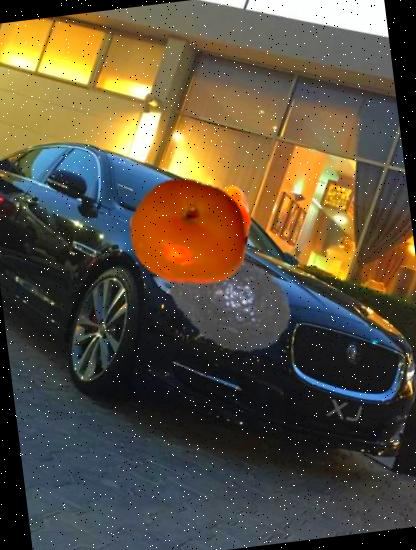Avocado: (155, 231, 299, 374)
Pepper: (176, 180, 264, 268)
Tomato: (122, 165, 256, 299)
